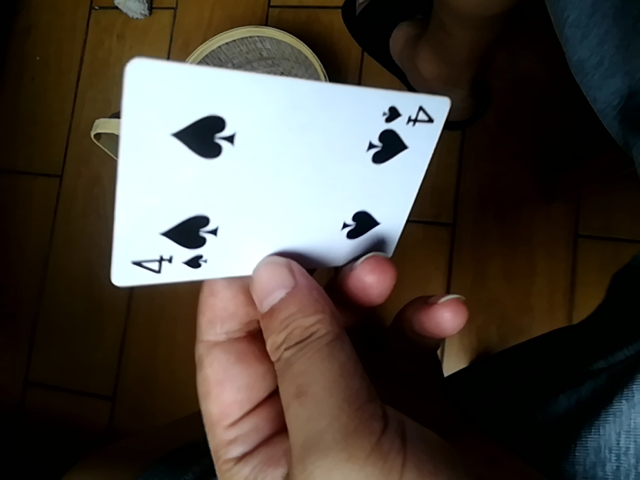ht 4: (110, 56, 453, 296)
